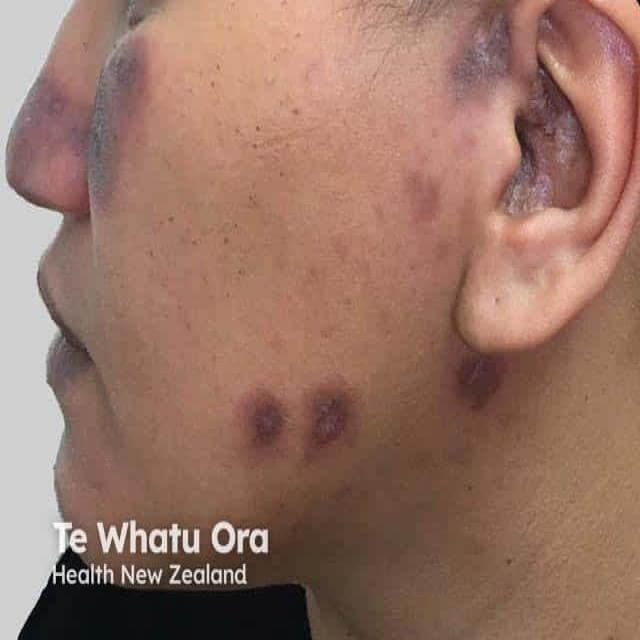lupus-detected: (2, 20, 244, 251), (468, 0, 640, 202), (252, 365, 437, 483), (458, 356, 544, 436)
